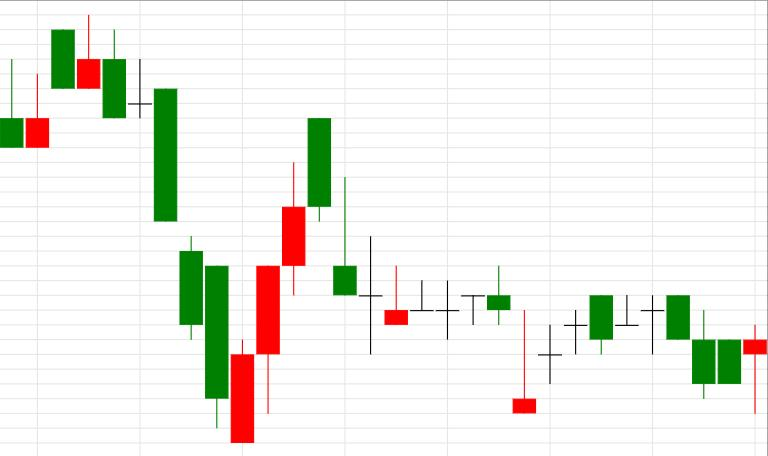three_white_soldiers_rise: (103, 29, 305, 443)
